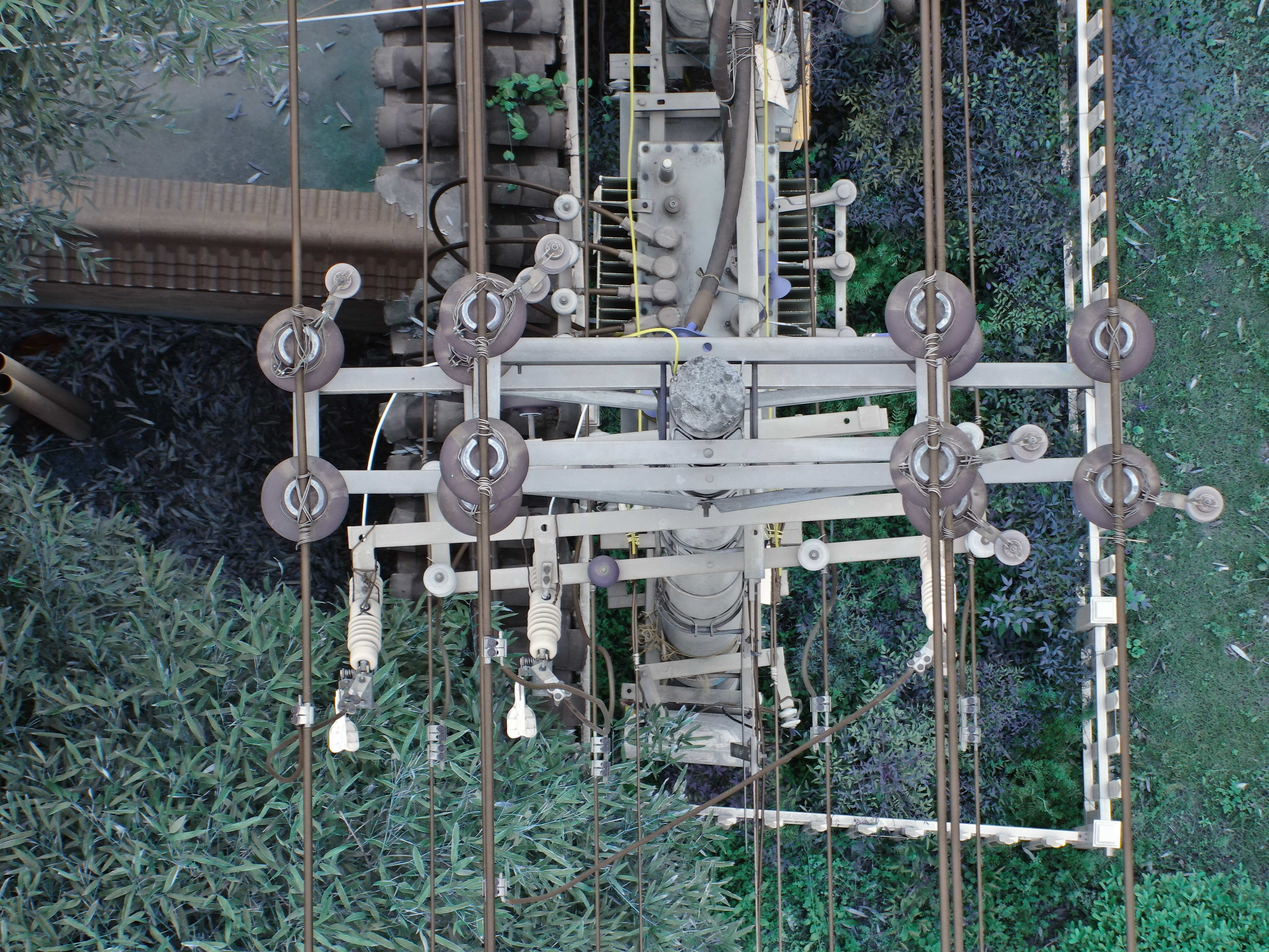severe_soiling_no_discharge_whole: (254, 449, 360, 546), (883, 259, 982, 361), (1068, 436, 1166, 532), (251, 301, 348, 397), (437, 413, 533, 504), (886, 419, 979, 512), (1065, 297, 1161, 386), (435, 269, 530, 358), (901, 467, 991, 544), (433, 472, 525, 539), (1091, 450, 1154, 547), (895, 419, 972, 496), (958, 694, 986, 743), (810, 696, 835, 746), (589, 734, 613, 780), (425, 722, 447, 765), (481, 635, 509, 663), (294, 701, 318, 730), (482, 875, 507, 901)
